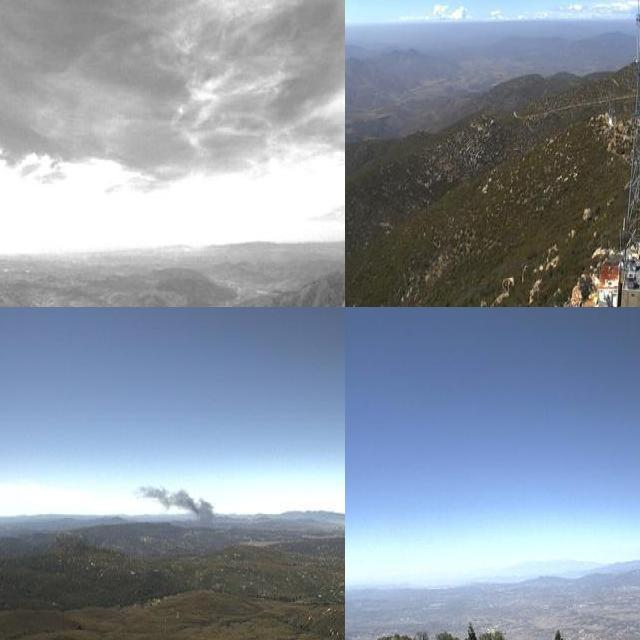smoke: (131, 476, 217, 532)
